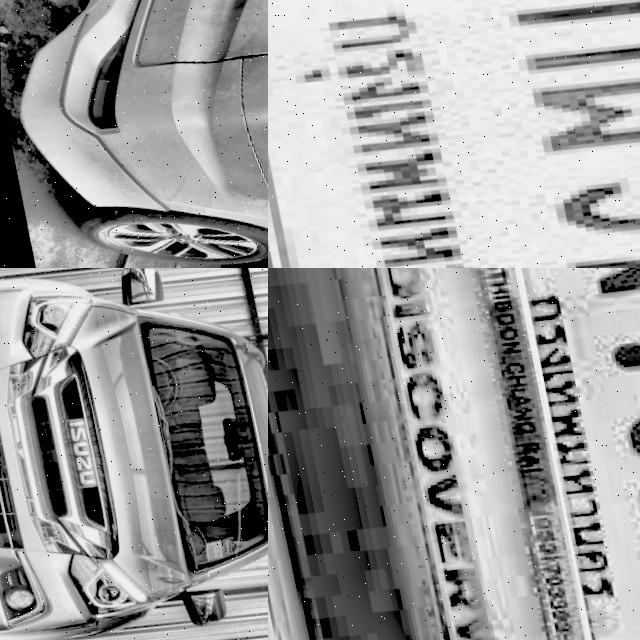license-plate: (268, 0, 640, 268), (438, 268, 640, 640)
